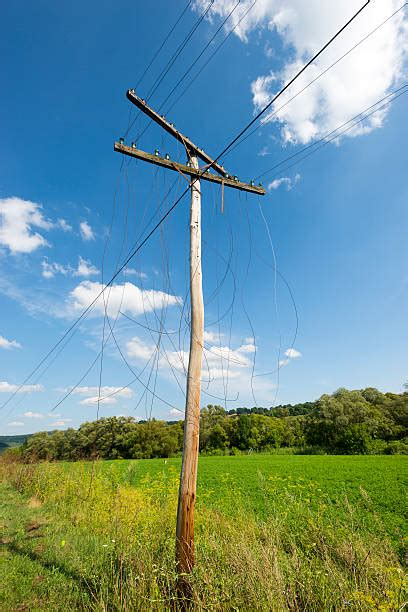pole: (106, 79, 274, 596)
